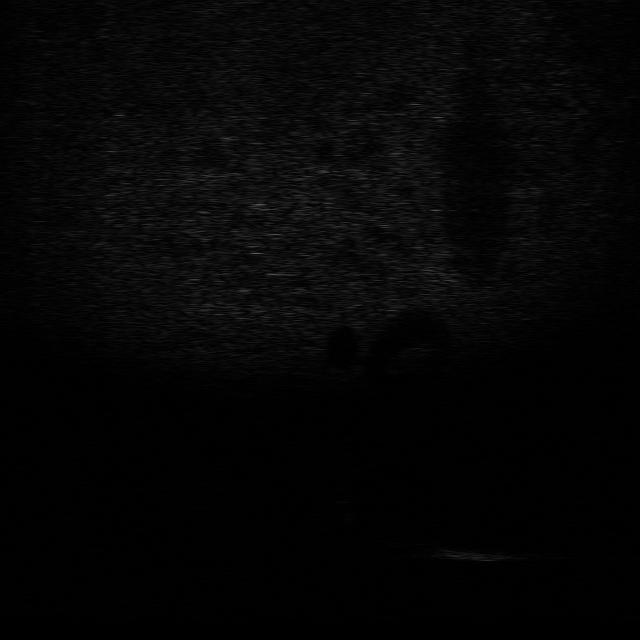ball: (321, 480, 364, 508)
metal bucket: (421, 537, 529, 570)
tyre: (379, 529, 440, 553)
